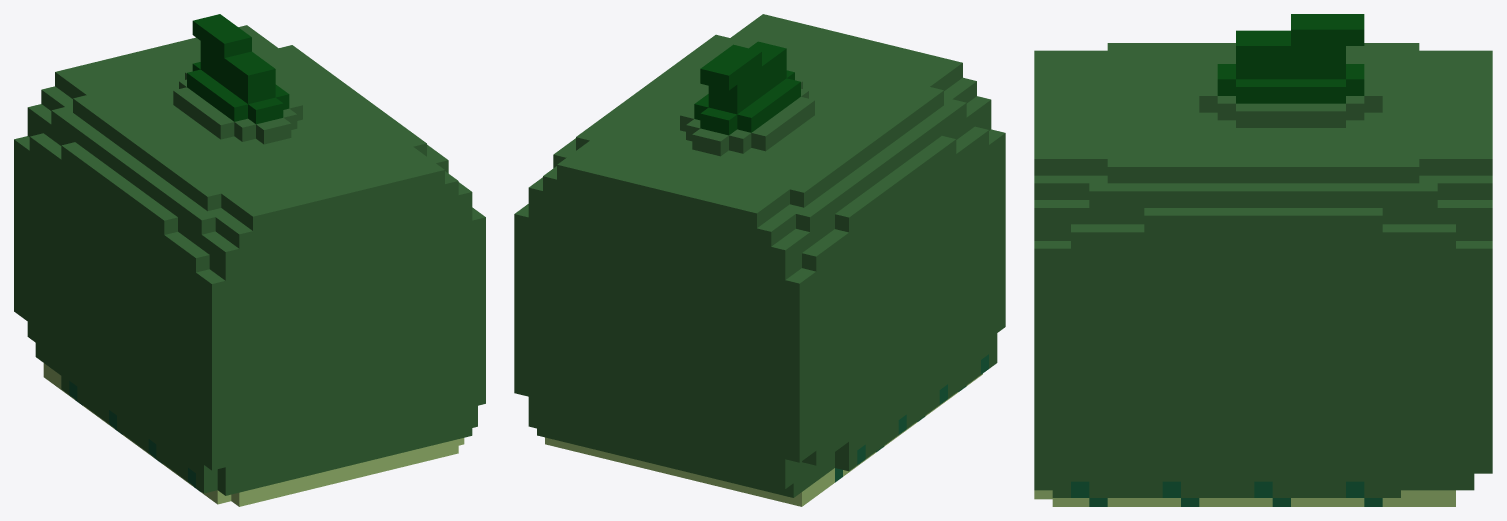
Rendered from Snake body.fbx.
3 views of the same model, side by side, from view 1: azimuth 30°, elevation 25°; view 2: azimuth 150°, elevation 25°; view 3: azimuth 270°, elevation 25° (orthographic). The views are drawn at different scales.
Visible parts, largest first — view 1: Untitled; view 2: Untitled; view 3: Untitled.
Boxes of the visible parts, <box> form: Untitled: <box>14,14,485,506</box>; Untitled: <box>514,14,1005,506</box>; Untitled: <box>1034,14,1492,506</box>.
Size of the model in its own units: 200 by 250 by 250.
Materials: 1 (1 with a texture image).
